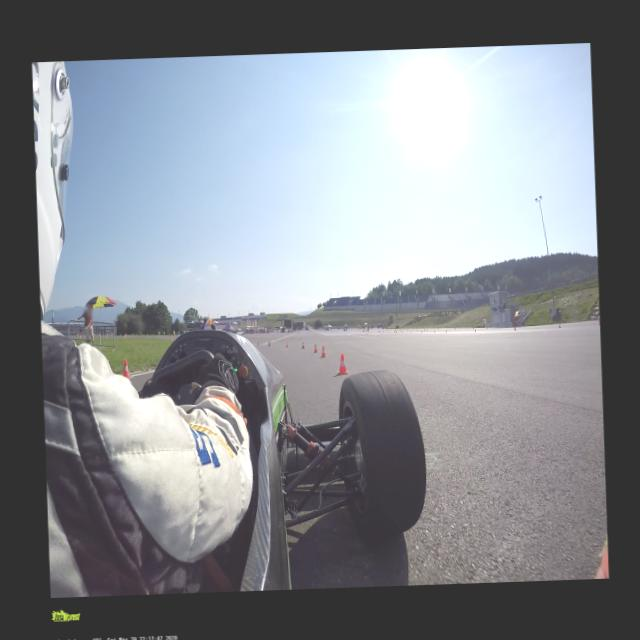orange_cone: (336, 352, 349, 373), (122, 358, 128, 376), (320, 346, 326, 357), (312, 343, 318, 352), (301, 341, 305, 348), (557, 322, 561, 328), (267, 340, 270, 346), (286, 341, 288, 346), (256, 340, 258, 344)
